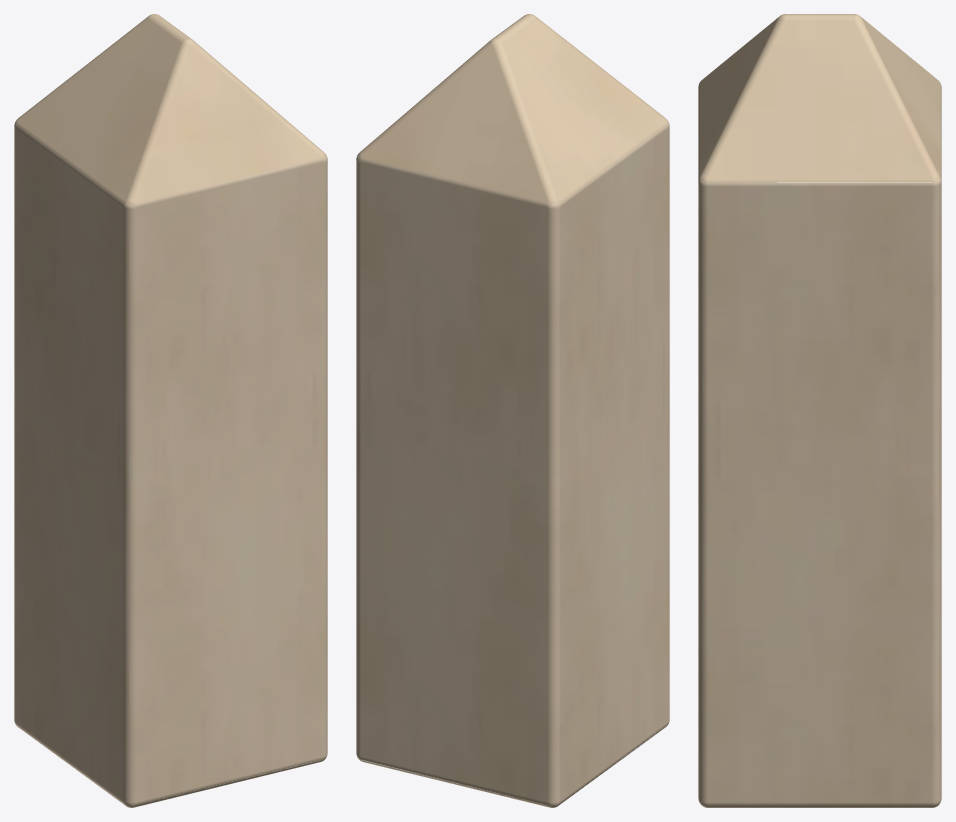
The model's file is Rez_Kral_bily.glb.
3 renders of one model, left to right at view 1: azimuth 30°, elevation 25°; view 2: azimuth 150°, elevation 25°; view 3: azimuth 270°, elevation 25°, orthographic. The views are drawn at different scales.
Parts seen in each view (by area): view 1: Rez_Kral_bily; view 2: Rez_Kral_bily; view 3: Rez_Kral_bily.
Part boxes in pixels (bbox=[...]): Rez_Kral_bily: bbox=[14, 14, 327, 807]; Rez_Kral_bily: bbox=[356, 14, 669, 807]; Rez_Kral_bily: bbox=[698, 14, 941, 807].
Bounding box in the file's own units: 0.02 × 0.0676 × 0.02.
Materials: 2 (2 with a texture image).
